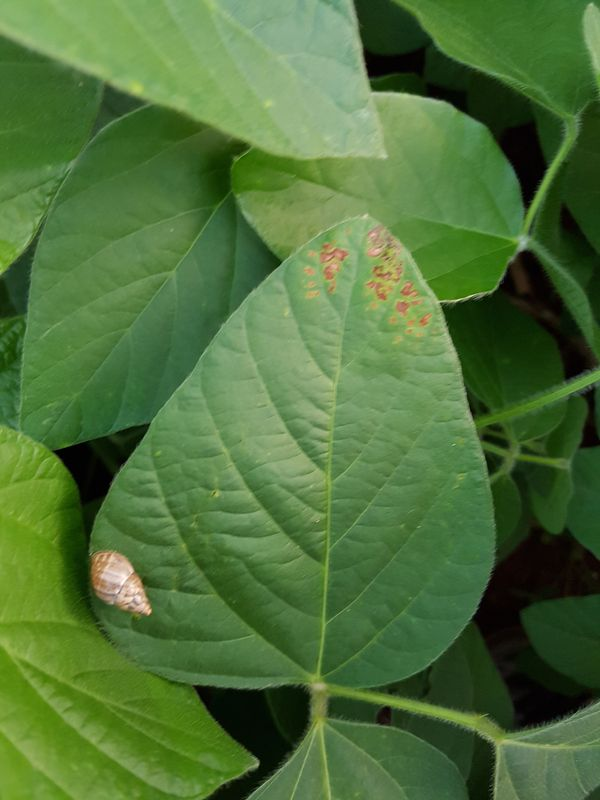Gastropoda: (75, 544, 160, 629)
